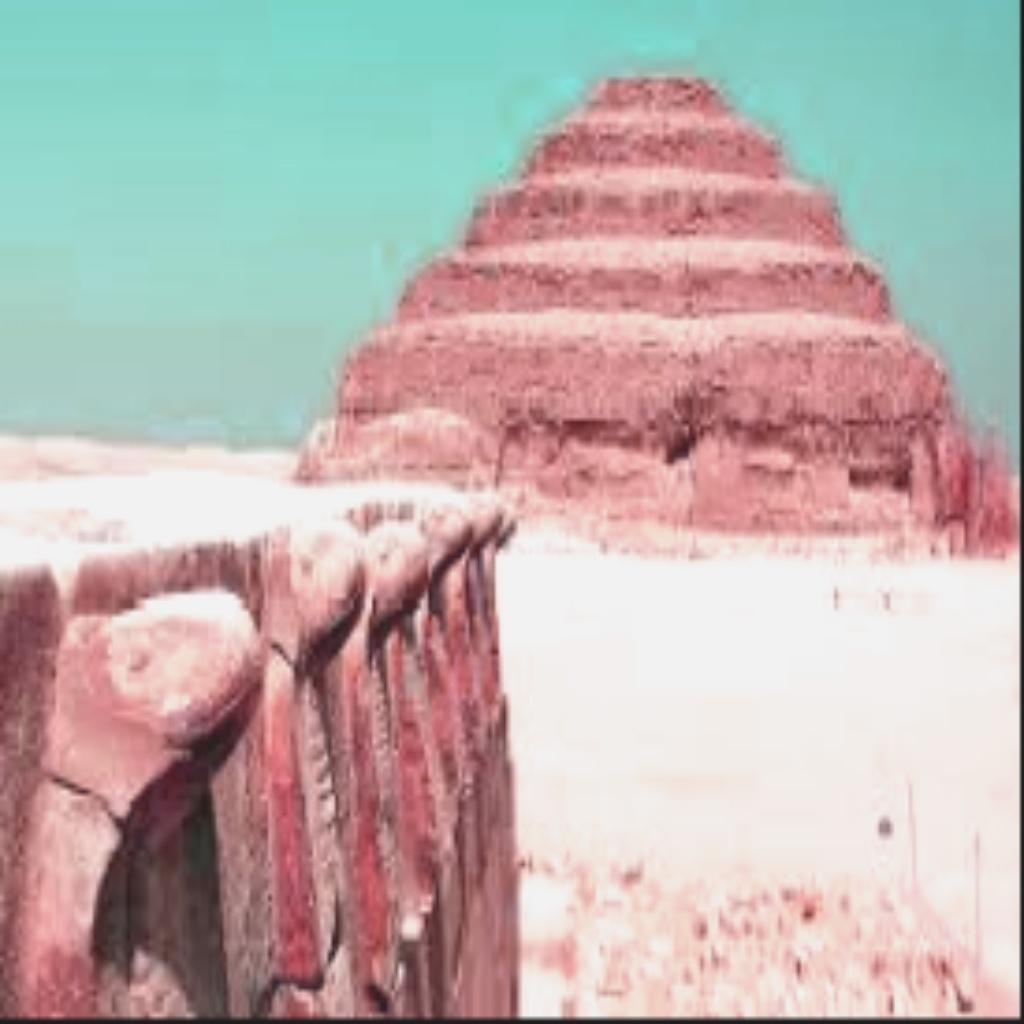Pyramid of Djoser: (298, 62, 987, 542)
